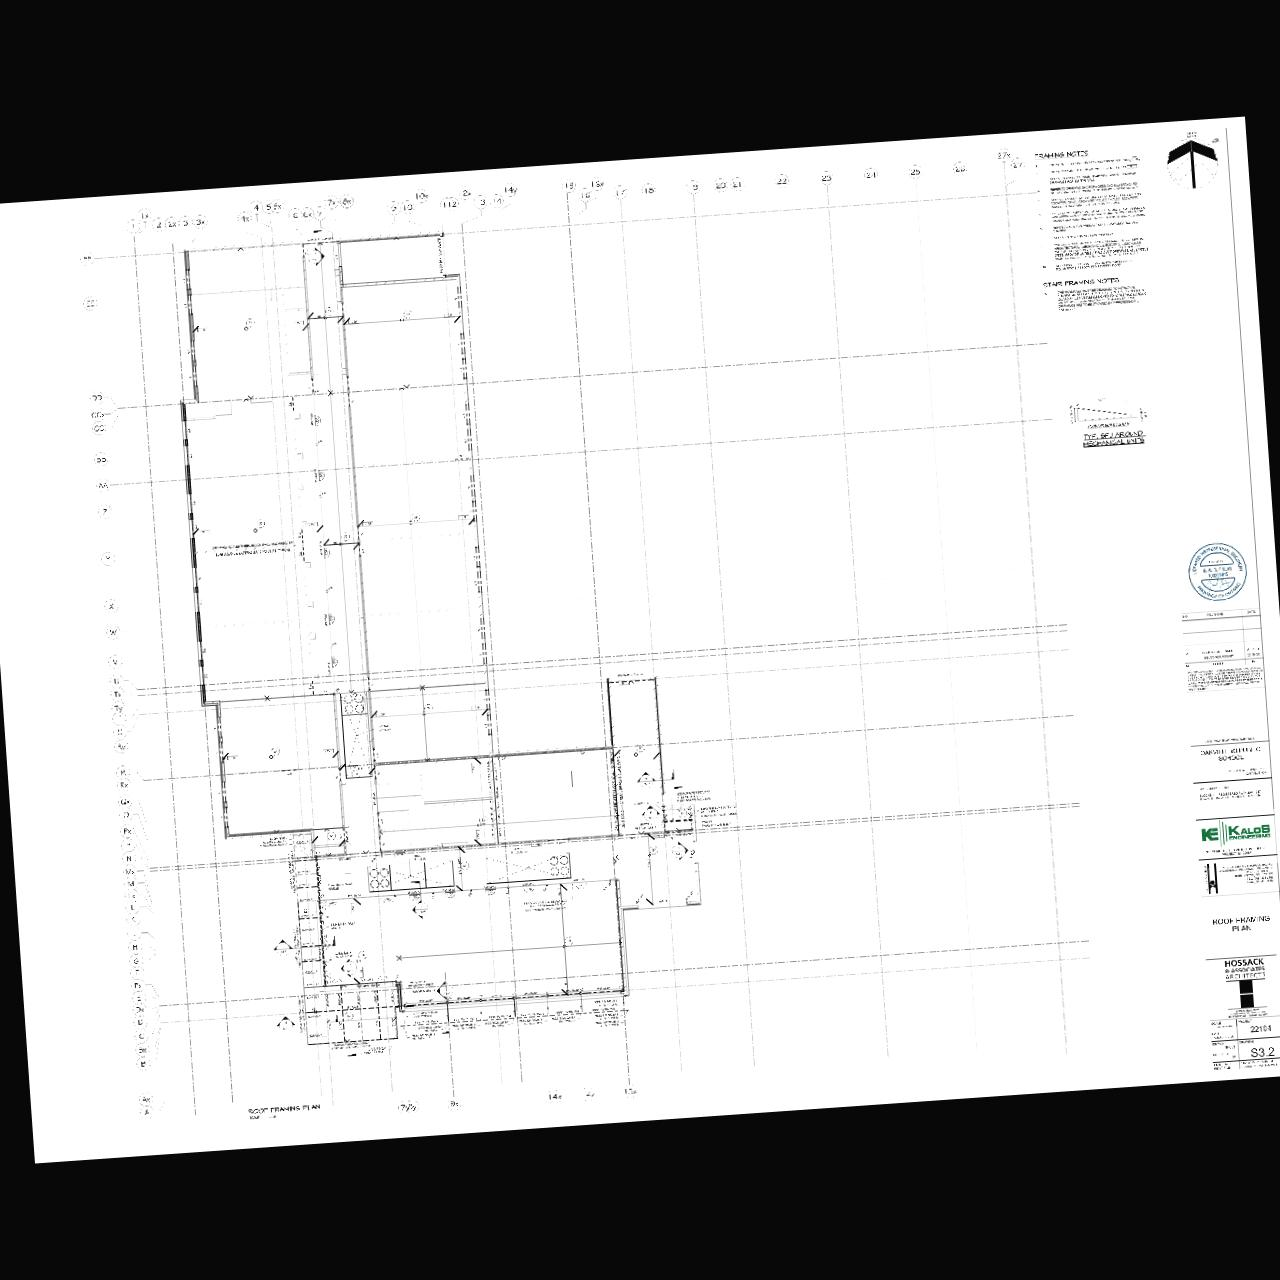detail: (254, 518, 270, 530), (349, 768, 362, 780), (357, 949, 370, 961), (400, 309, 414, 320), (270, 746, 284, 757), (562, 935, 576, 946), (676, 808, 690, 819), (340, 530, 352, 542), (344, 1010, 356, 1022), (460, 860, 473, 871), (244, 318, 258, 328), (411, 512, 423, 523), (478, 815, 490, 826), (326, 830, 338, 841), (649, 845, 660, 856), (324, 306, 336, 316), (636, 742, 646, 754), (424, 703, 434, 713), (302, 906, 312, 916)
elevation: (274, 1014, 298, 1035), (636, 770, 658, 790), (412, 899, 431, 922), (670, 840, 690, 861), (436, 980, 456, 1001), (640, 804, 662, 823), (272, 938, 294, 957), (338, 958, 358, 978), (308, 246, 326, 267)
title: (246, 1102, 324, 1120)
